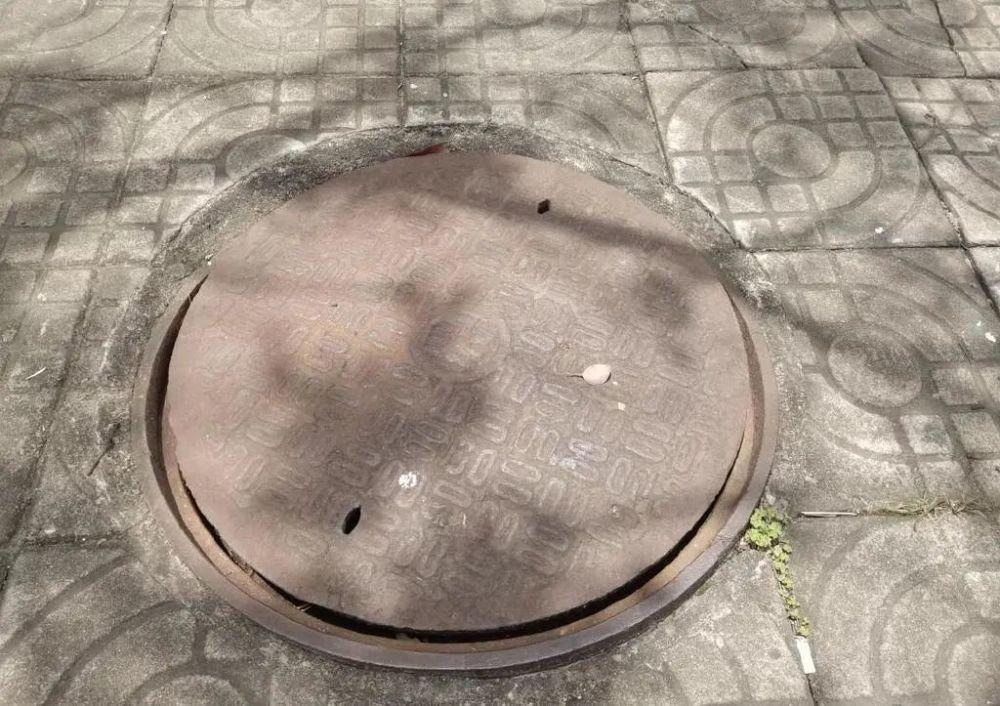wellcover: (124, 105, 772, 676)
